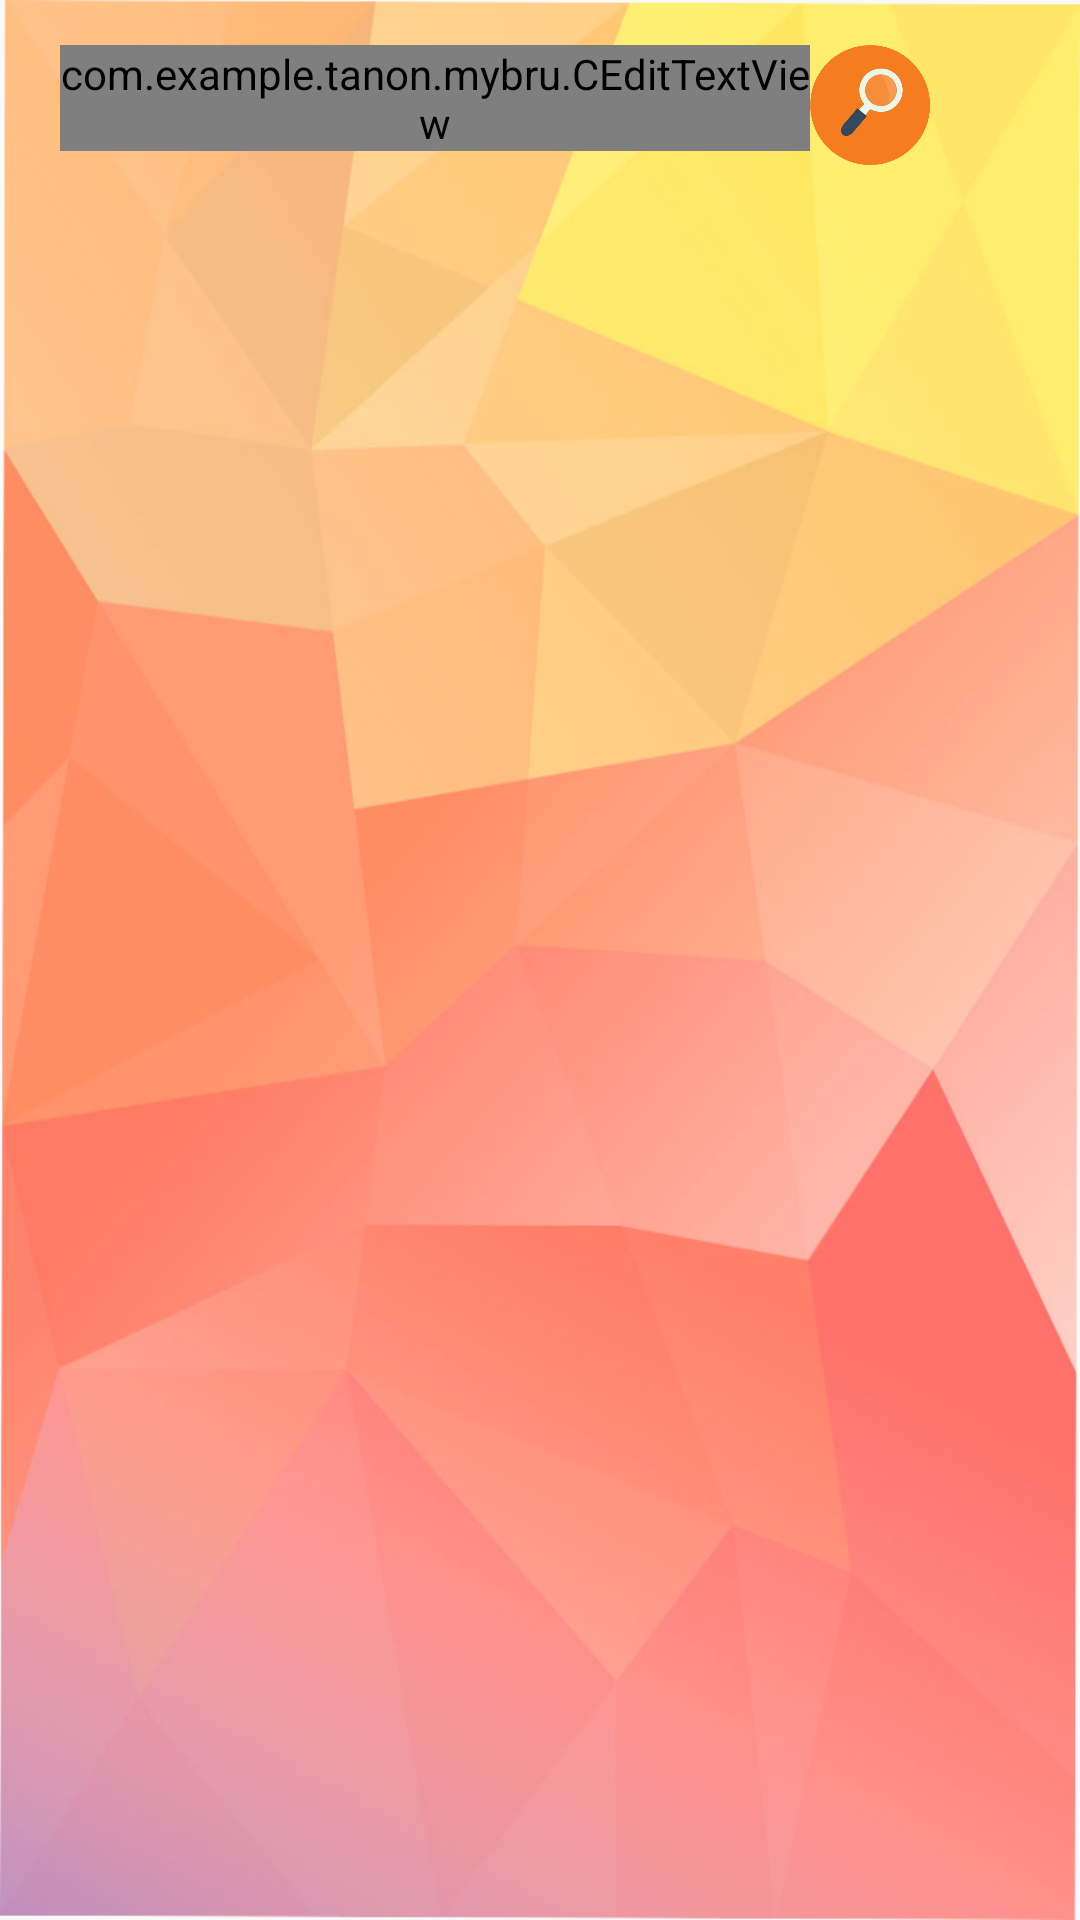

Screen size 1080w x 1920h. Icon name, then its center in pixels as [x,y]:
seach: [870,105]
